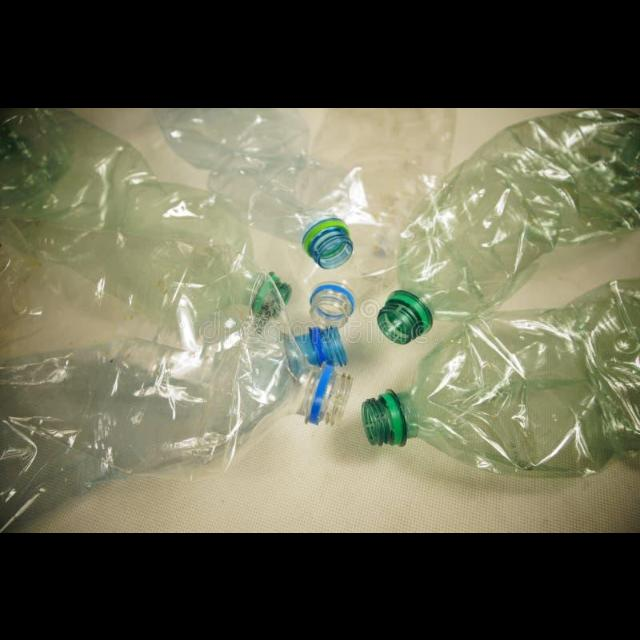garrafa plástica: (1, 218, 352, 430), (0, 326, 348, 530), (0, 107, 290, 325), (376, 107, 640, 345), (362, 277, 640, 477), (298, 107, 454, 330), (150, 108, 352, 266)
